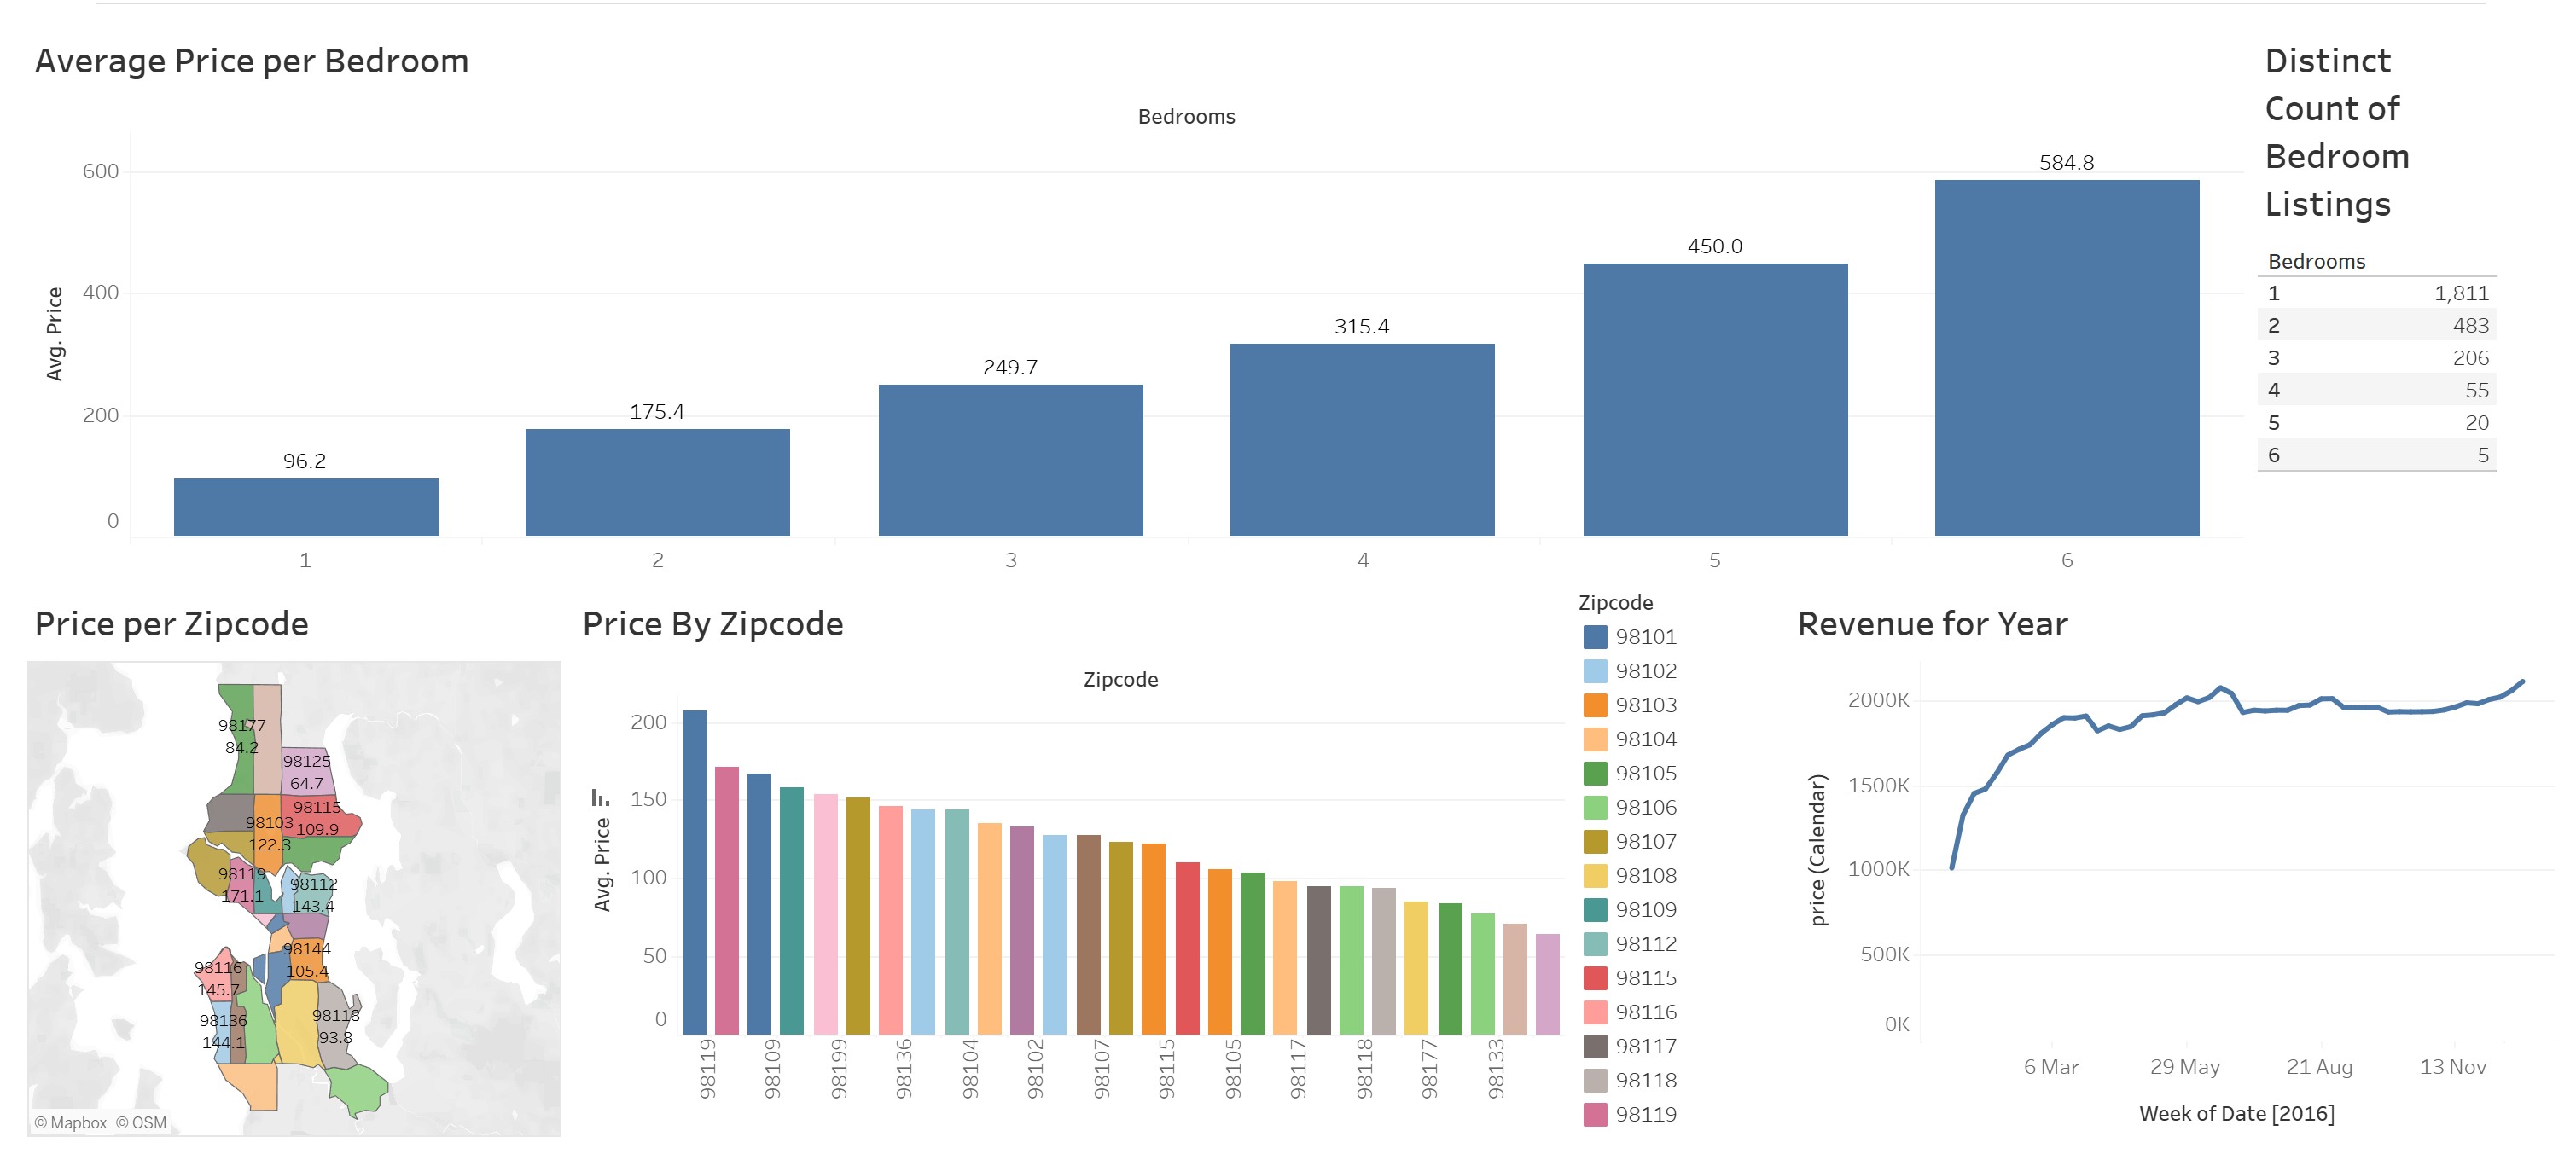

The page's visual inventory and layout, read from the dashboard file:
{"tool":"tableau","page":{"name":"Dashboard 1","canvas":[1000,1000],"units":"permille","ordinal":0},"visuals":[{"type":"worksheet","title":"Sheet 4","mark":"Automatic","rows":["price"],"cols":["bedrooms"],"box":[6,10.8,867.2,489.2]},{"type":"worksheet","title":"Sheet 5","mark":"Automatic","rows":["bedrooms"],"box":[873.2,10.8,120.8,489.2]},{"type":"worksheet","title":"Sheet 2","mark":"Multipolygon","box":[6,500,212.8,489.2]},{"type":"worksheet","title":"Sheet 1","mark":"Automatic","rows":["price"],"cols":["zipcode"],"box":[218.9,500,390.5,489.2]},{"type":"legend","title":"Sheet 1","param":"[federated.10g2yqr1fc5op615wehls19o32td].[none:zipcode:ok]","box":[609.4,500,81.9,489.2]},{"type":"worksheet","title":"Sheet 3","mark":"Automatic","rows":["price (Calendar)"],"cols":["date"],"box":[691.3,500,302.6,489.2]}]}

Visuals, with their boxes on the dashboard's canvas, which has no fixed pixel size, in thousandths of its width and height (x1, y1, x2, y2). These are canvas units, not pixel positions in the 2576x1154 screenshot, which may show the page scaled, cropped or inside an application window:
"Sheet 4" worksheet: detection(6, 11, 873, 500)
"Sheet 5" worksheet: detection(873, 11, 994, 500)
"Sheet 2" worksheet (Multipolygon marks): detection(6, 500, 219, 989)
"Sheet 1" worksheet: detection(219, 500, 609, 989)
"Sheet 1" legend: detection(609, 500, 691, 989)
"Sheet 3" worksheet: detection(691, 500, 994, 989)
